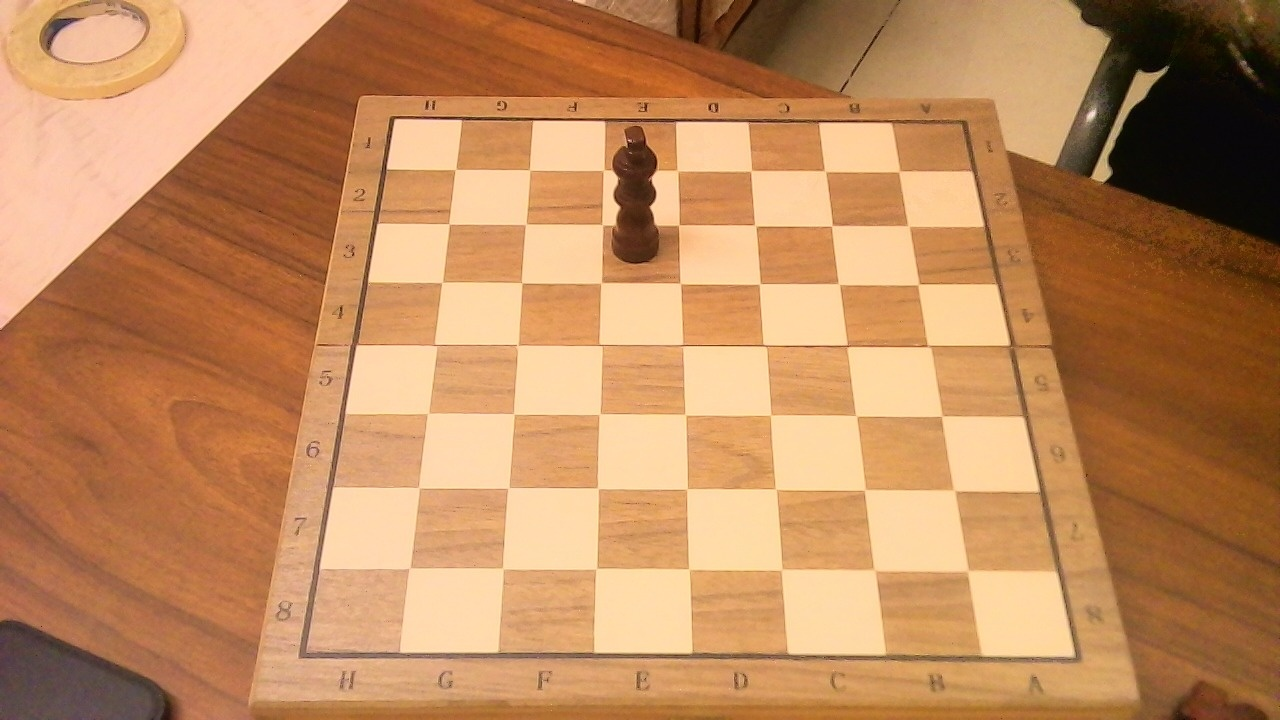k: (605, 118, 676, 267)
